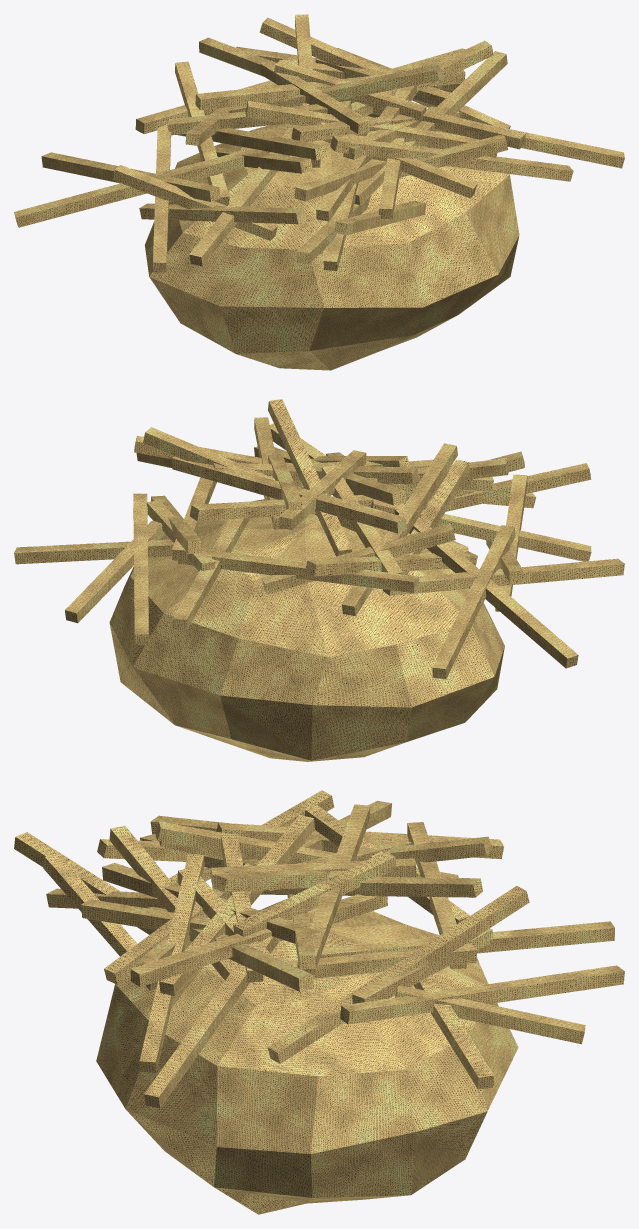
The model's file is fodder.glb.
3 renders of one model, top to bottom at view 1: azimuth 30°, elevation 25°; view 2: azimuth 150°, elevation 25°; view 3: azimuth 270°, elevation 25°, orthographic. The views are drawn at different scales.
Visible parts, largest first — view 1: fodder; view 2: fodder; view 3: fodder.
Part boxes in pixels (box(x1,y1,x2,y2)): fodder: box(14, 14, 624, 370); fodder: box(14, 399, 624, 761); fodder: box(14, 790, 624, 1214).
Size of the model in its own units: 1.77 by 0.9079 by 1.5.
1 material, 1 textured.
